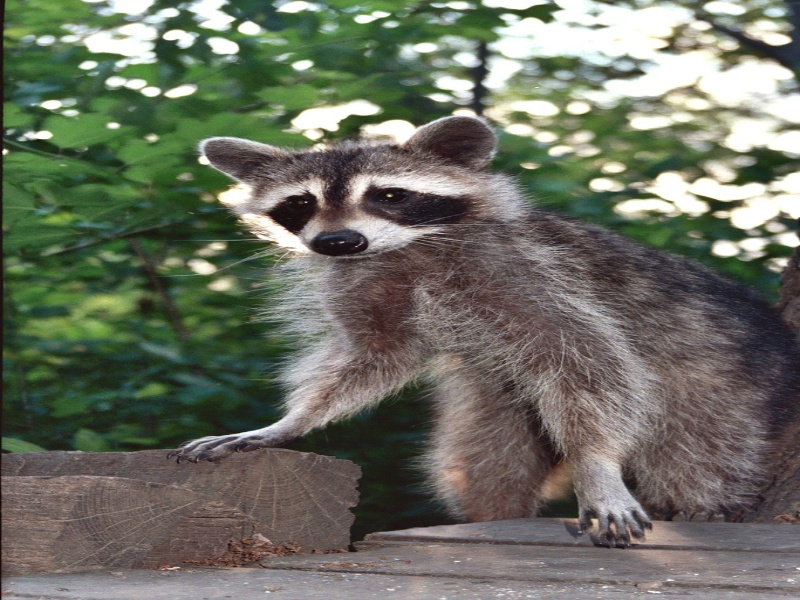raccoon: (172, 114, 791, 544)
